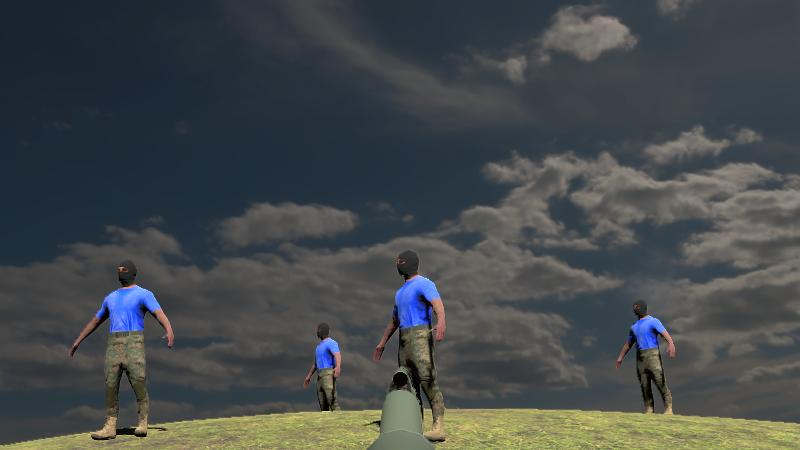Human: (70, 260, 174, 440), (376, 248, 446, 443), (617, 299, 675, 418), (304, 321, 342, 436)
